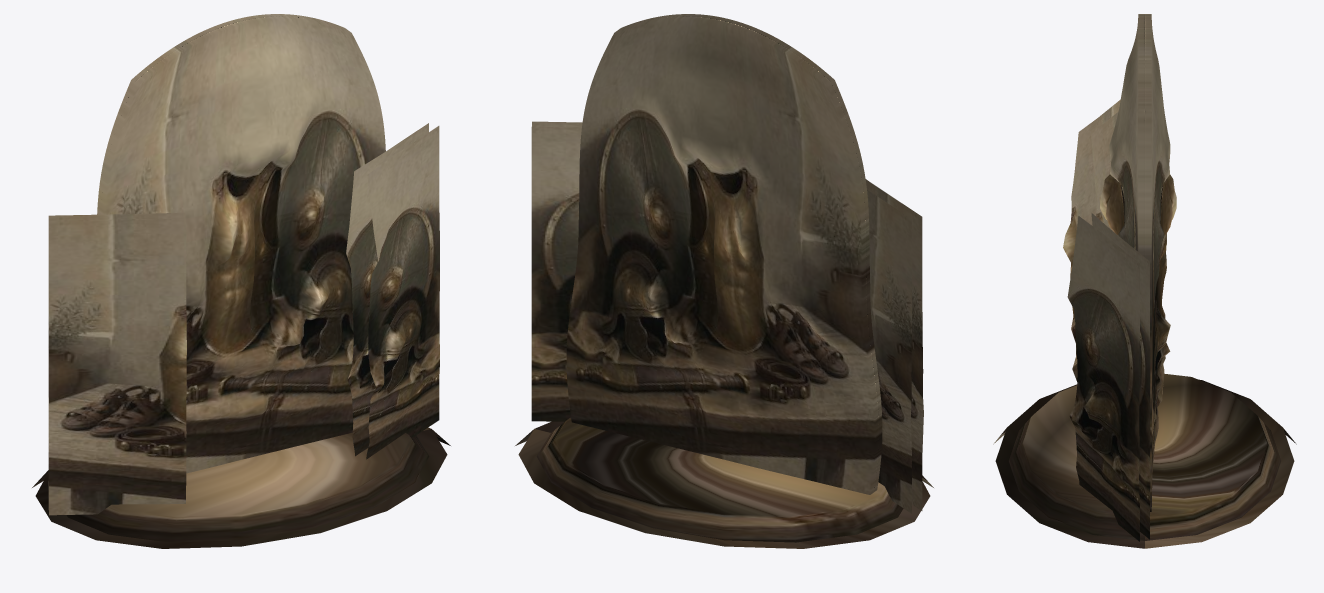
File: rooted-and-free-39.glb
The picture shows the model from 3 angles, left to right: view 1: azimuth 30°, elevation 25°; view 2: azimuth 150°, elevation 25°; view 3: azimuth 270°, elevation 25°; orthographic projection. The views are drawn at different scales.
Parts seen in each view (by area): view 1: PaintingSculptureMonument; view 2: PaintingSculptureMonument; view 3: PaintingSculptureMonument.
Part boxes in pixels (x1,y1,x2,y2): PaintingSculptureMonument: [32, 14, 450, 548]; PaintingSculptureMonument: [515, 14, 933, 548]; PaintingSculptureMonument: [993, 14, 1296, 548].
Bounding box in the file's own units: 2.76 × 2.99 × 1.99.
Materials: 1 (1 with a texture image).
